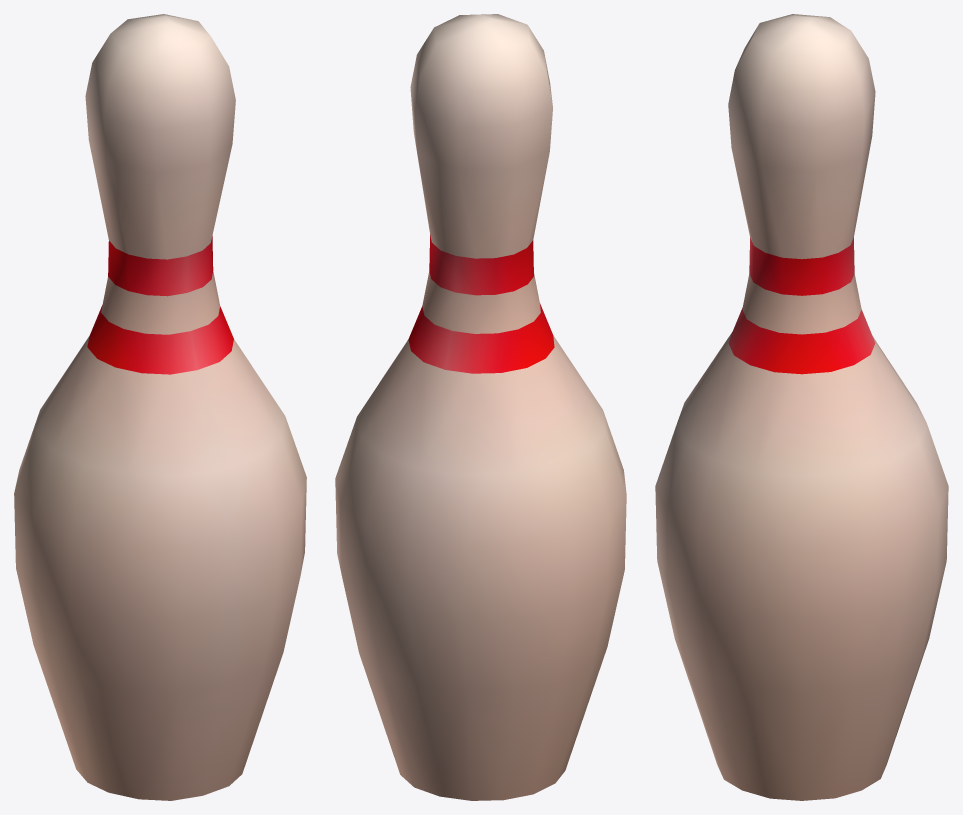
File: pin.fbx
3 views of the same model, side by side, from view 1: azimuth 30°, elevation 25°; view 2: azimuth 150°, elevation 25°; view 3: azimuth 270°, elevation 25° (orthographic).
Visible parts, largest first — view 1: pin; view 2: pin; view 3: pin.
Part boxes in pixels (x1,y1,x2,y2): pin: (14, 14, 306, 800); pin: (335, 14, 626, 800); pin: (655, 14, 948, 800).
Bounding box in the file's own units: 13.5 × 37.8 × 13.5.
